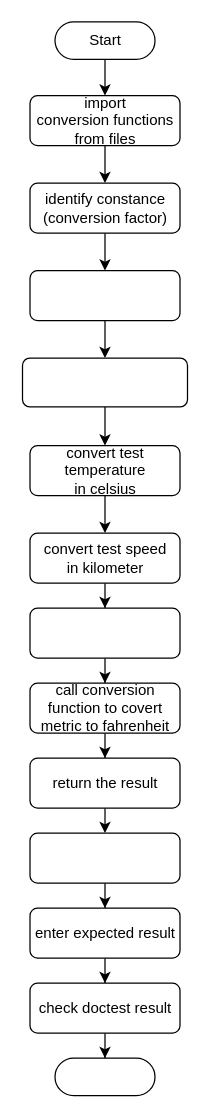
Some shapes in this 209 by 1118 pixel diagram are drawn without their labels. Here are the shapes that lost their labels. From the top down, the centre of each, then its label:
At (104,295): "packing windchill formula as a helper function".
At (104,382): "define a founction to calculate windchill index".
At (104,632): "call helper function compute to windchill index in metric".
At (104,857): "adding doctest to function calculate_windchill".
At (104,1076): "End".
